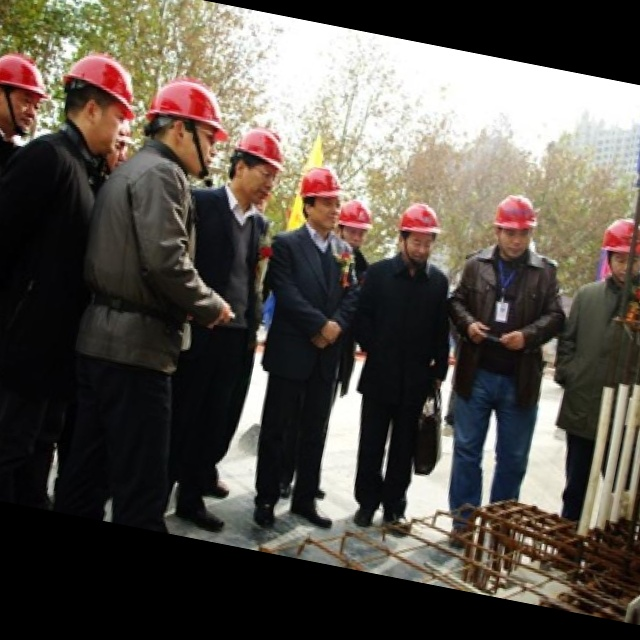Con_Casco: (223, 127, 289, 207), (488, 191, 542, 258), (393, 199, 439, 259)
